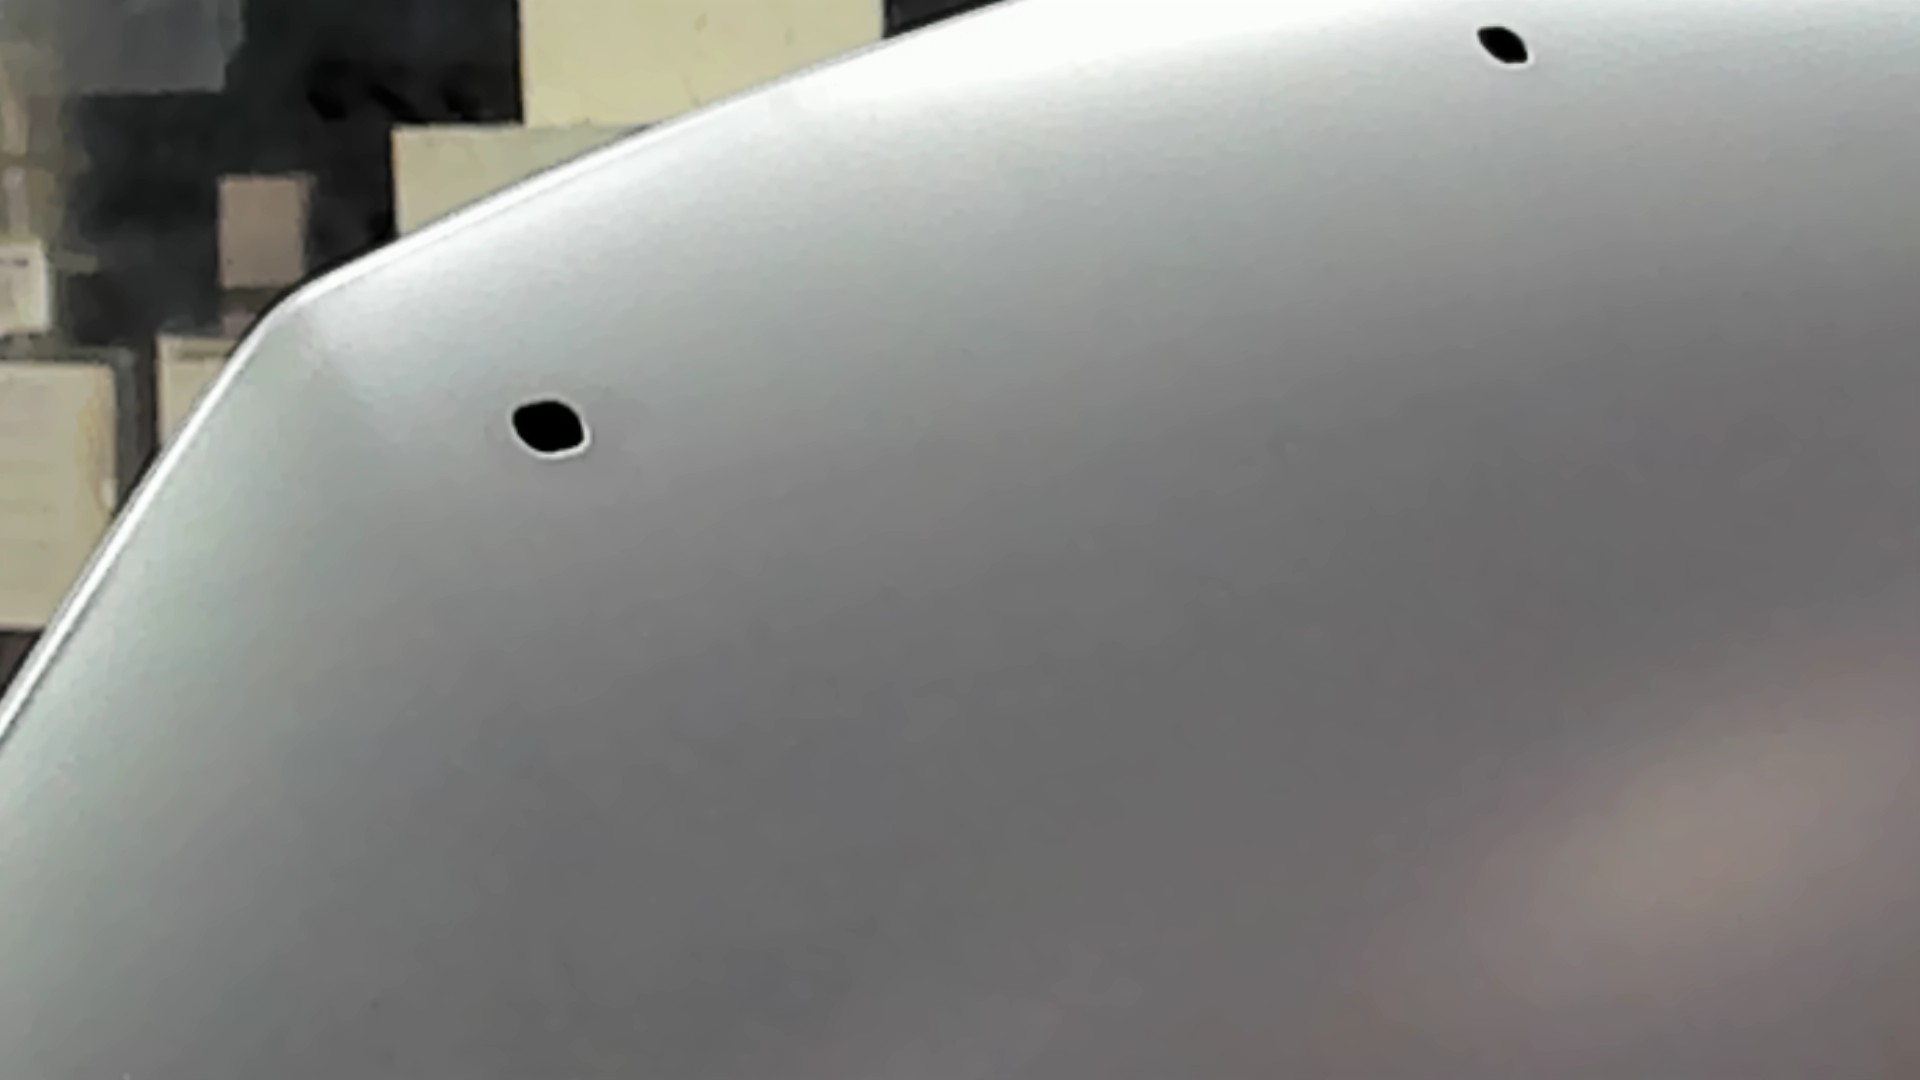amorfo: (496, 394, 597, 467), (1470, 15, 1538, 73)
capo: (694, 170, 1920, 1080)
